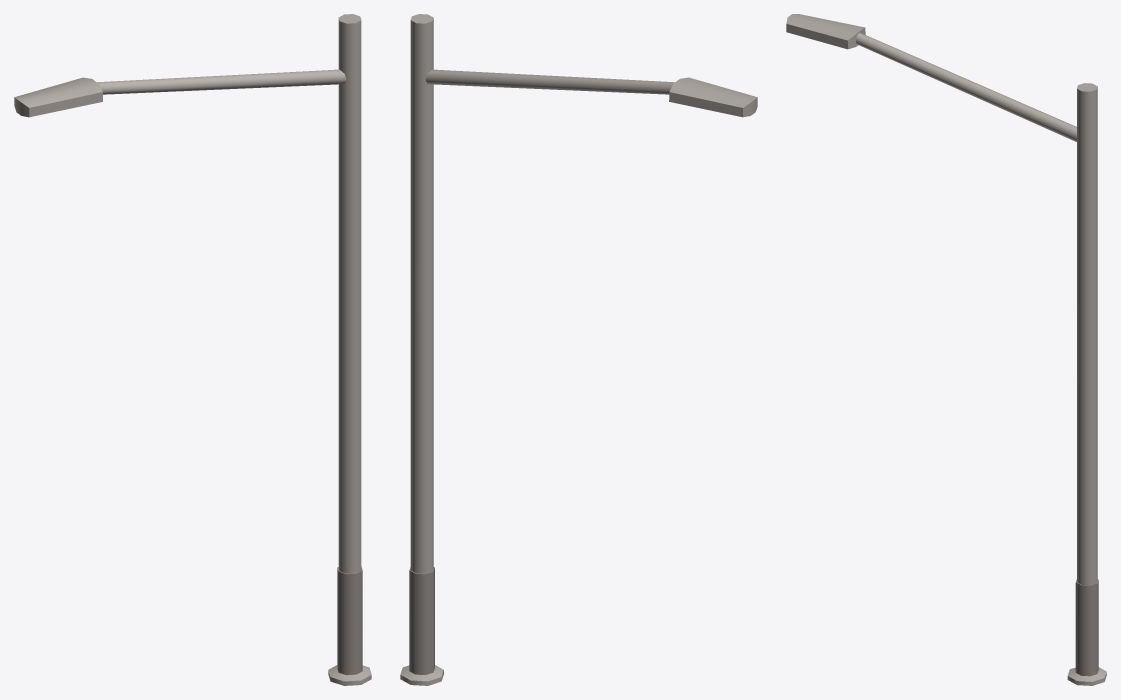
Rendered from streetLight.fbx.
3 renders of one model, left to right at view 1: azimuth 30°, elevation 25°; view 2: azimuth 150°, elevation 25°; view 3: azimuth 330°, elevation 25°, orthographic. The views are drawn at different scales.
Parts seen in each view (by area): view 1: sptp_street_light_02; view 2: sptp_street_light_02; view 3: sptp_street_light_02.
Part boxes in pixels (x1,y1,x2,y2): sptp_street_light_02: (14,14,371,685); sptp_street_light_02: (400,14,757,685); sptp_street_light_02: (786,14,1106,685).
Bounding box in the file's own units: 351 × 628 × 38.99.
1 material, 1 textured.
